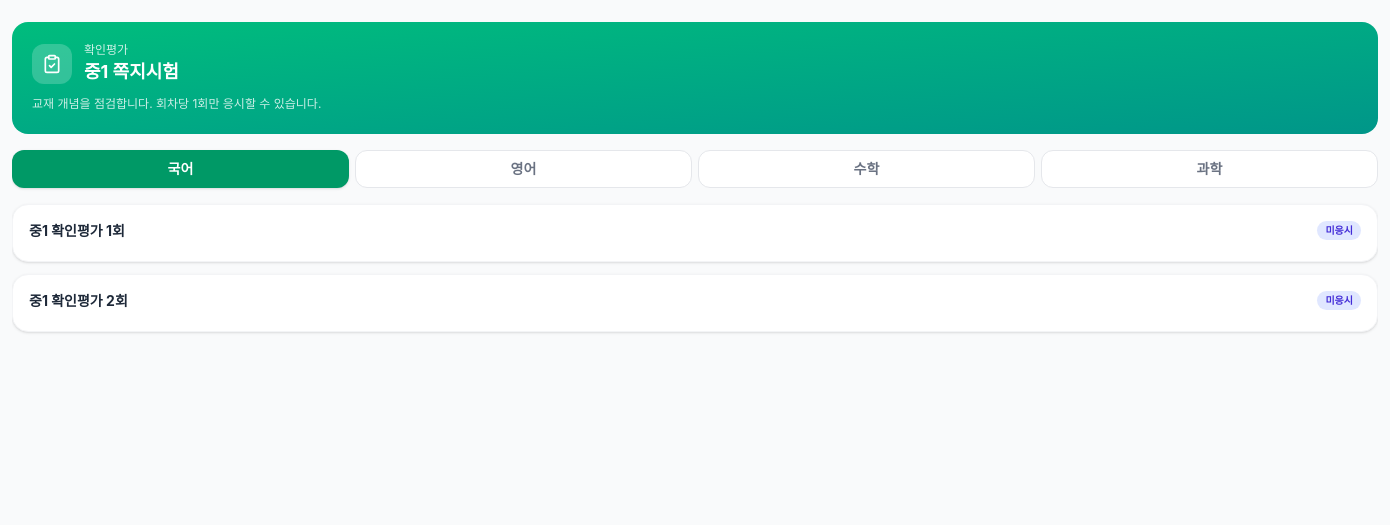
Test case: QuizTab 서술형 문항 › 서술형 문항은 textarea로 입력하고 수동 채점 안내를 보여준다
What coordinates should you click on to do the following:
click the text "중1 확인평가 2회"
I would click on:
 (78, 300)
Its box is [29, 290, 128, 310].
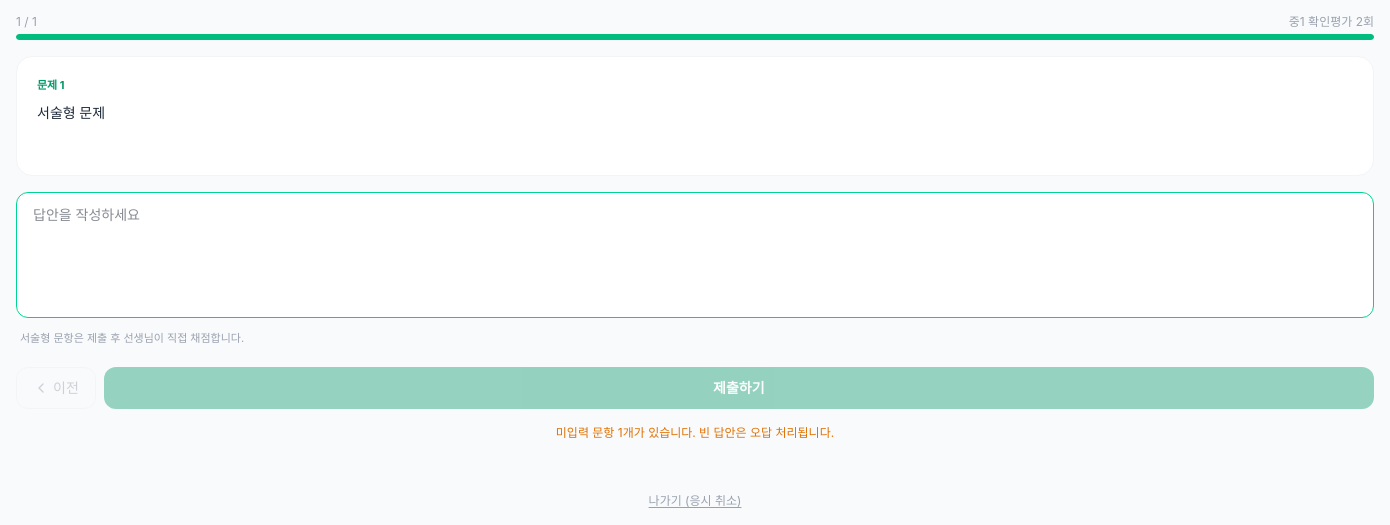
Expected: the text "서술형 문항은 제출 후 선생님이 직접 채점합니다." is shown, [20, 331, 244, 345]
